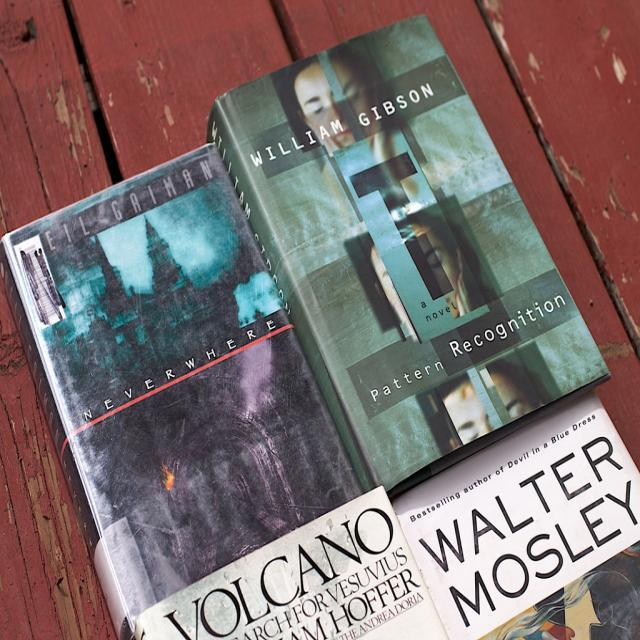book: (207, 14, 614, 502), (1, 138, 367, 640)
